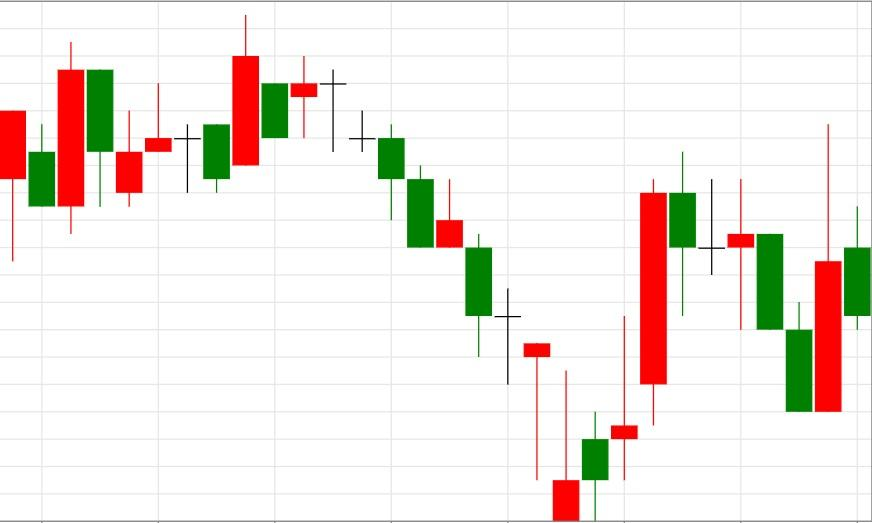bullish_engulfing_rise: (668, 123, 842, 413)
inverse_hammer_rise: (290, 55, 581, 523)
